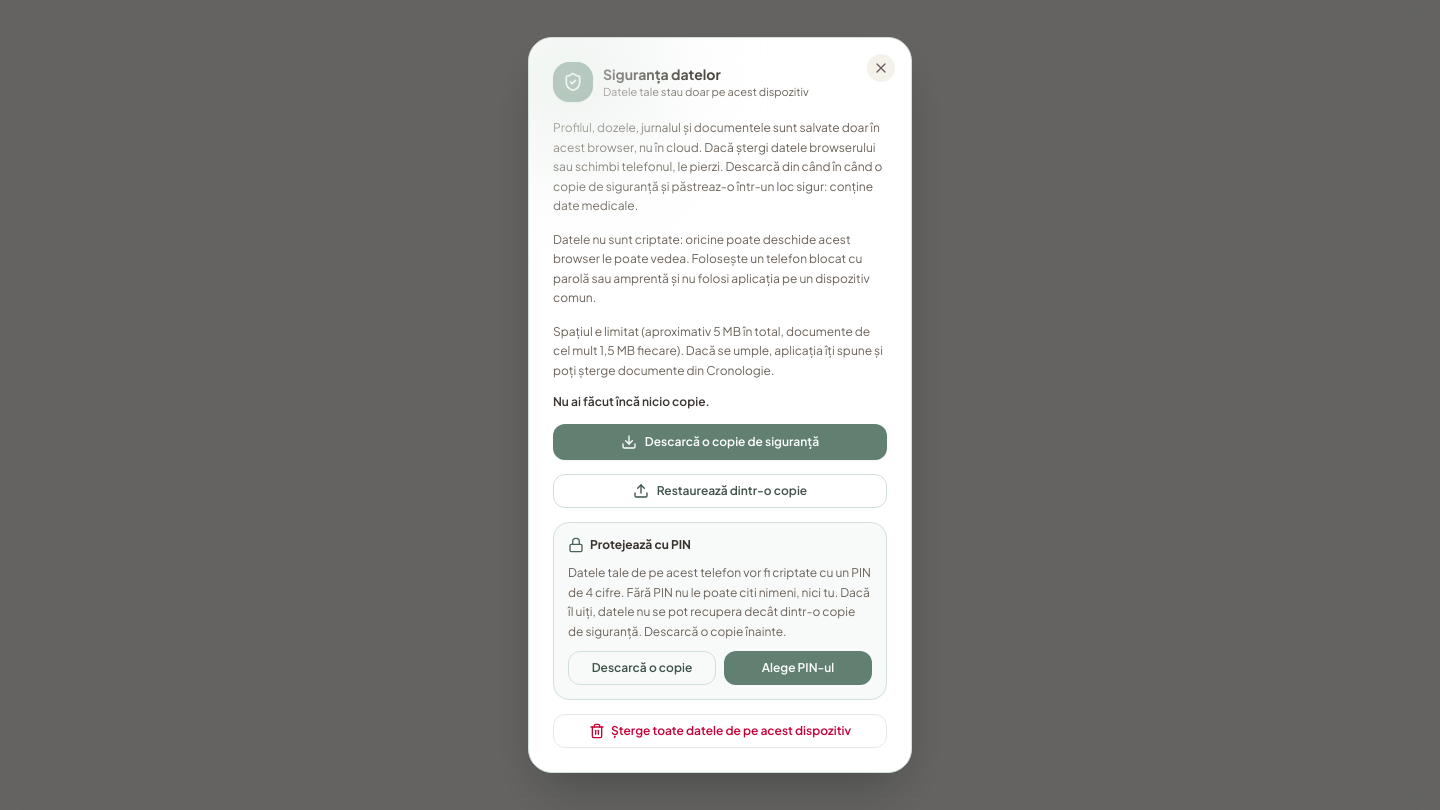
Pe ecran › „Siguranța datelor” arată data ultimei copii și o actualizează după descărcare
Check: the text "Nu ai făcut încă nicio copie." is shown, box left=553, top=394, right=710, bottom=409
Click the button "Descarcă o copie de siguranță": (720, 442) left=553, top=424, right=887, bottom=460
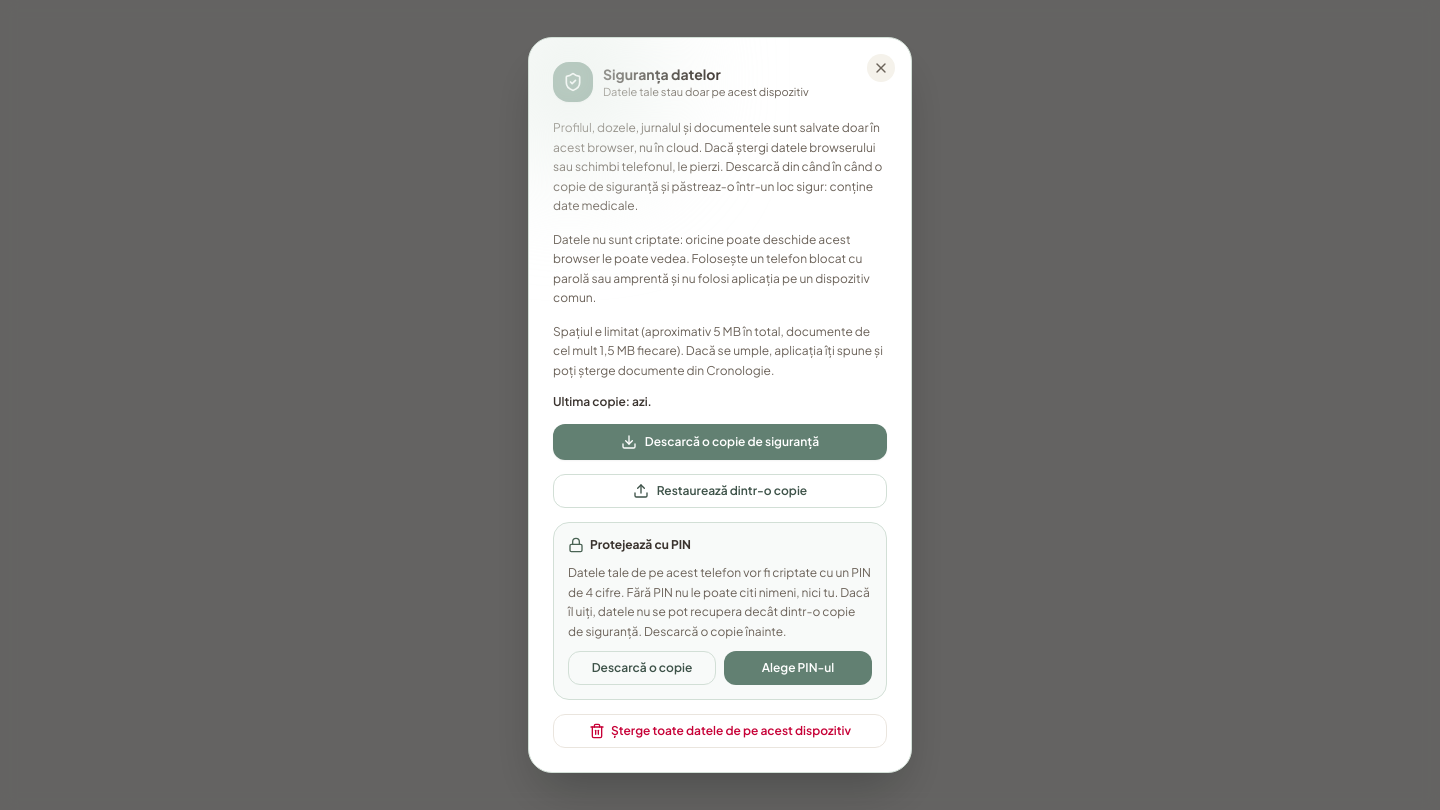
Check: the text "Ultima copie: azi." is shown, box left=553, top=394, right=652, bottom=409
